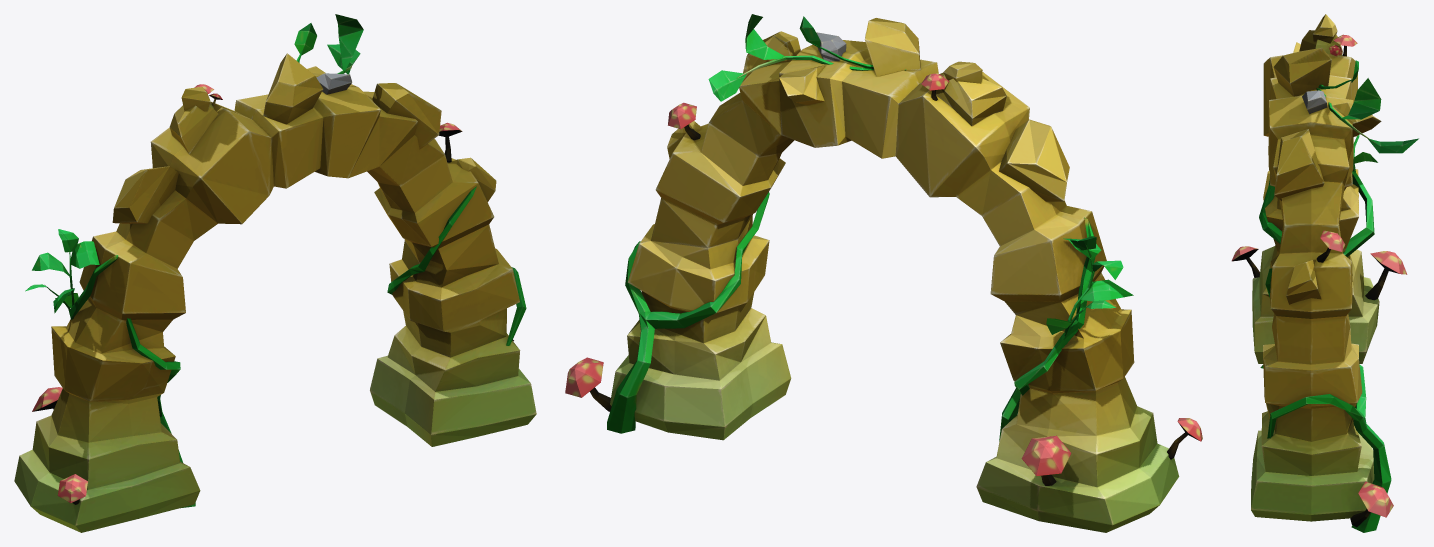
Rendered from door.fbx.
3 renders of one model, left to right at view 1: azimuth 30°, elevation 25°; view 2: azimuth 150°, elevation 25°; view 3: azimuth 270°, elevation 25°, orthographic. The views are drawn at different scales.
Visible parts, largest first — view 1: polySurface7; view 2: polySurface7; view 3: polySurface7.
Boxes of the visible parts, x1,y1,x2,y2 form: polySurface7: (14,14,536,532); polySurface7: (565,14,1202,532); polySurface7: (1231,14,1418,532).
Size of the model in its own units: 820 by 625 by 272.
